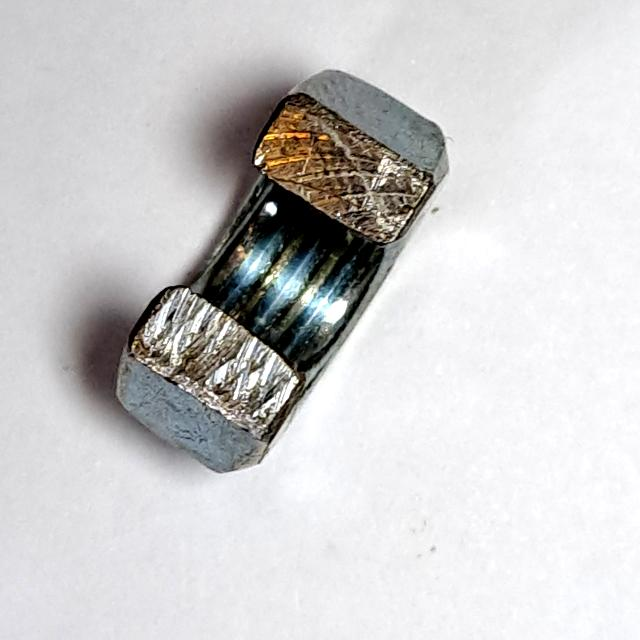Side-Fracture: (109, 55, 465, 485)
